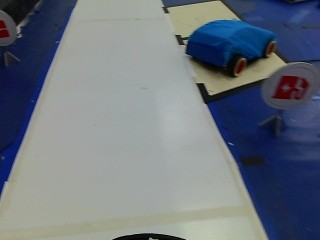battery: (263, 63, 317, 110)
car: (171, 9, 280, 80)
